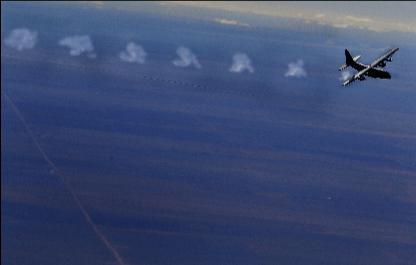Be200: (338, 47, 398, 85)
